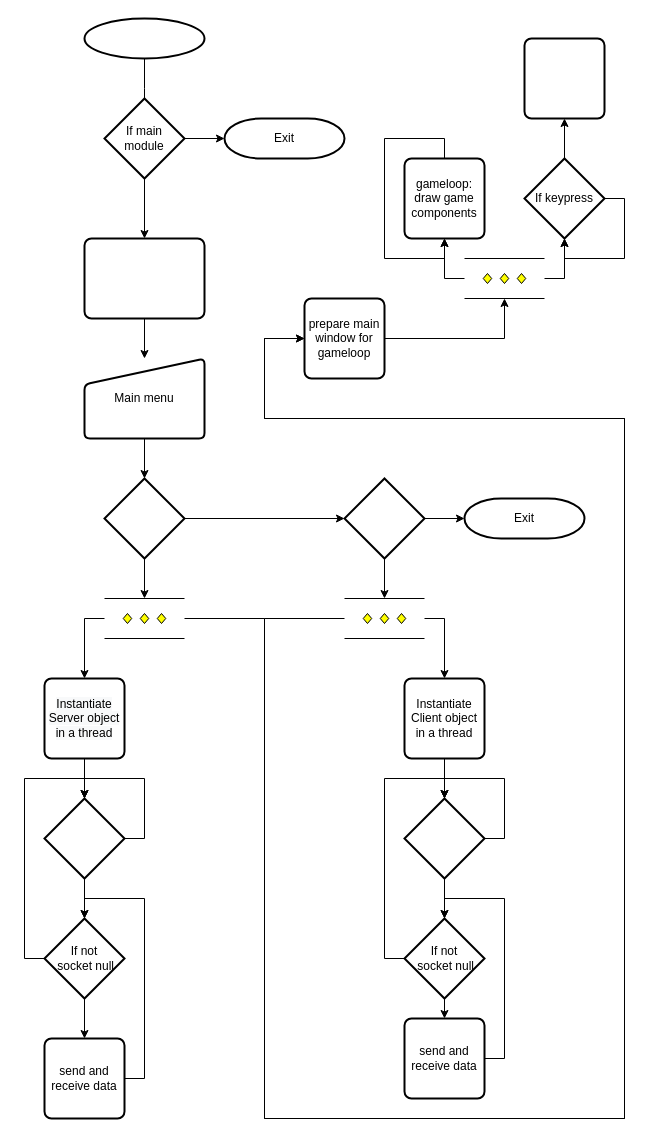
Some shapes in this 650 by 1144 pixel diagram are drawn without their labels. The shapes that lost their labels are listed below. From the top down, each one's box as (x1, y1, x2, y2) in pixels, then its label:
(83, 17, 205, 59): Entry
(523, 37, 605, 119): Handle input
(83, 237, 205, 319): Instantiate application object
(103, 477, 185, 559): Host a game
(343, 477, 425, 559): Join a game
(43, 797, 125, 879): Wait for client
(403, 797, 485, 879): Try to connect to a server
